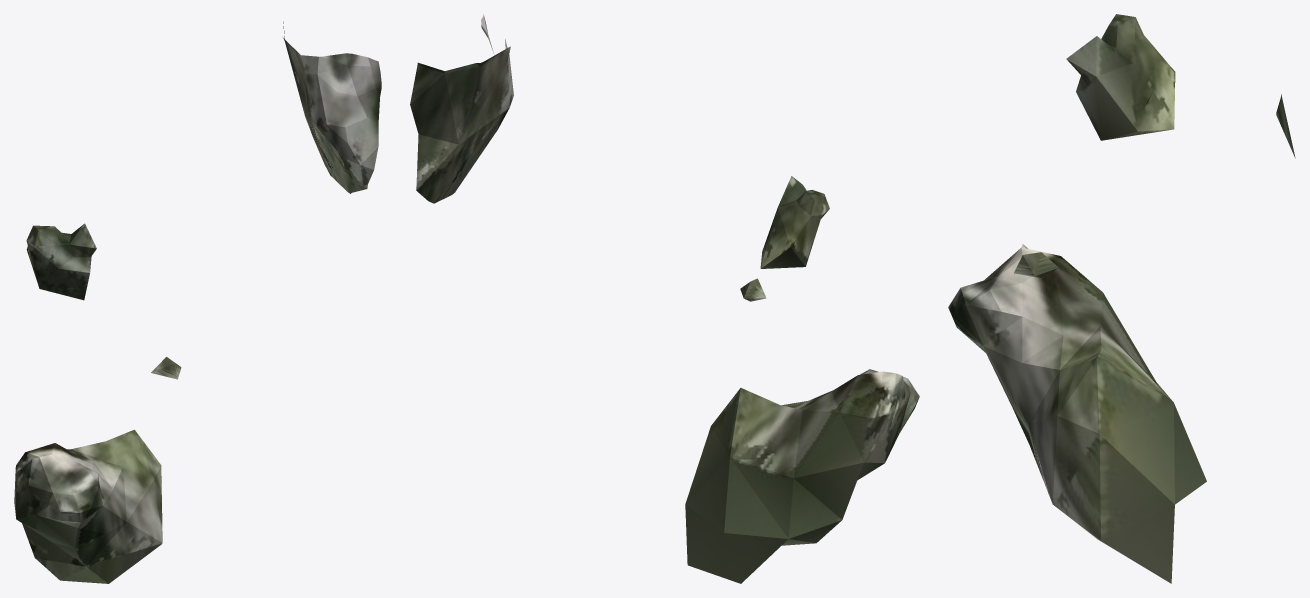
The picture shows the model from 3 angles, left to right: view 1: azimuth 30°, elevation 25°; view 2: azimuth 150°, elevation 25°; view 3: azimuth 270°, elevation 25°; orthographic projection. The views are drawn at different scales.
Size of the model in its own units: 2.37 by 2.79 by 1.41.
Materials: 1 (1 with a texture image).
